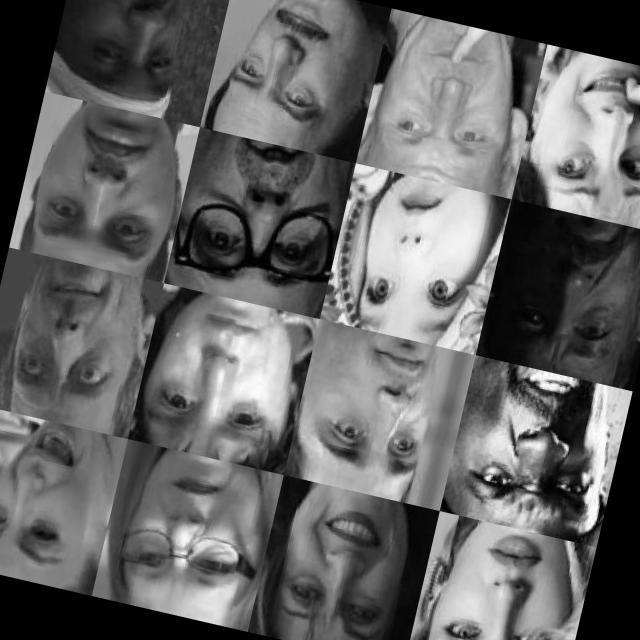angry: (445, 354, 631, 534)
fear: (342, 176, 498, 346), (0, 260, 149, 414), (533, 48, 640, 226)
happy: (263, 479, 422, 640), (216, 0, 371, 142), (59, 0, 207, 104)
neutral: (106, 438, 276, 622), (27, 101, 187, 272), (374, 12, 529, 184), (300, 333, 455, 492), (416, 513, 589, 640)
sad: (136, 290, 298, 460), (176, 136, 340, 299), (493, 210, 640, 374), (0, 411, 113, 583)
